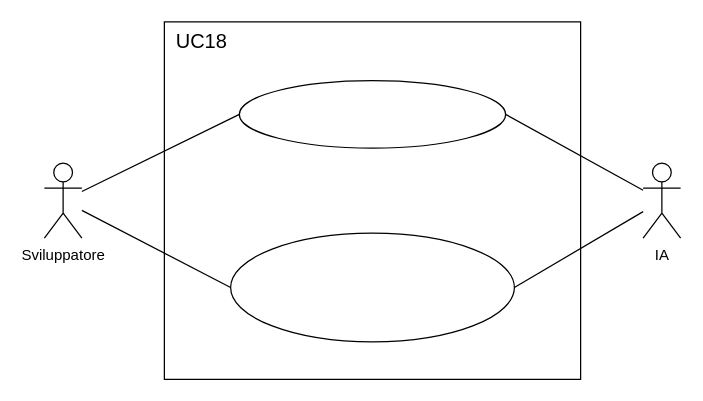
The diagram is 703 pixels wide and 401 high, and some of its shapes have lost their labels. Each missing label, with the centre of its shape:
UC18.1 Invio del codice: point (372, 113)
UC18.2 Visualizzazione feedback da parte del test automatico creato: point (371, 287)
